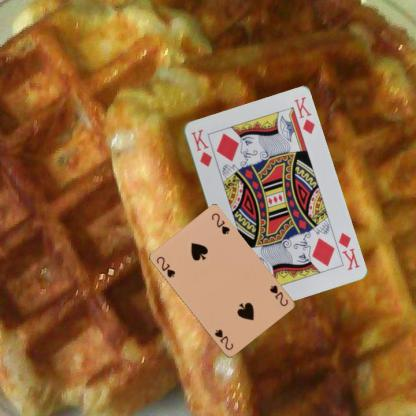2s: (154, 254, 177, 279), (268, 283, 290, 308)
Kd: (335, 230, 361, 272), (188, 126, 213, 168)
